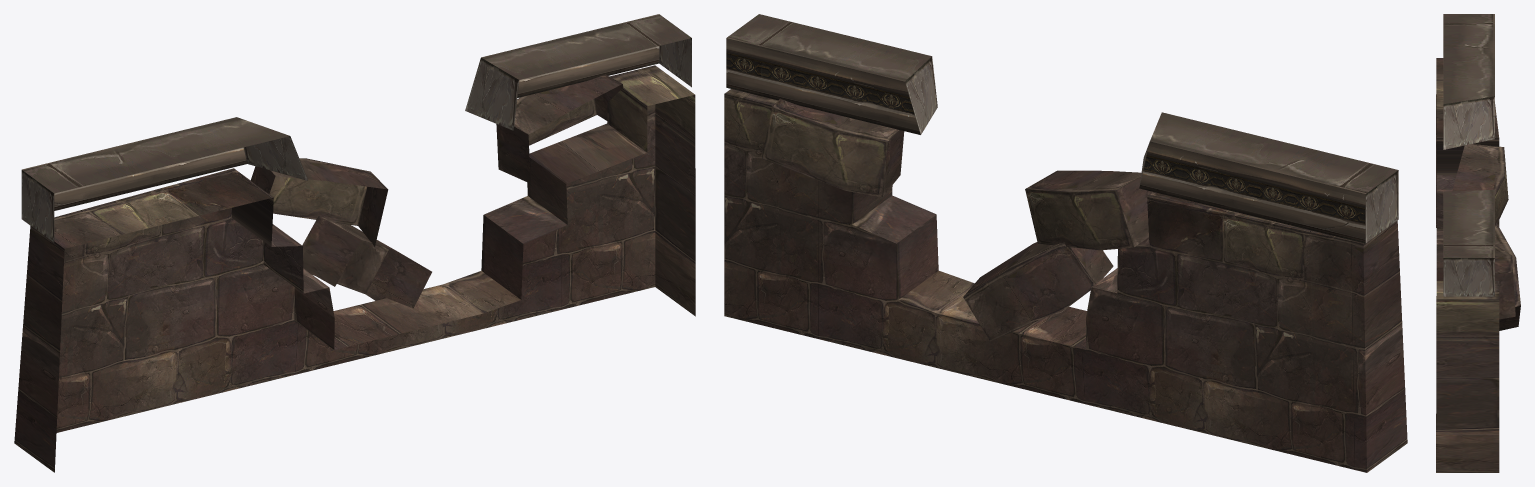
Rendered from wall_break.FBX.
The picture shows the model from 3 angles, left to right: view 1: azimuth 30°, elevation 25°; view 2: azimuth 150°, elevation 25°; view 3: azimuth 270°, elevation 25°; orthographic projection. The views are drawn at different scales.
Parts seen in each view (by area): view 1: wall_break; view 2: wall_break; view 3: wall_break.
Boxes of the visible parts, x1,y1,x2,y2 form: wall_break: (14, 14, 695, 472); wall_break: (724, 14, 1407, 472); wall_break: (1436, 14, 1520, 472).
Bounding box in the file's own units: 6.95 × 2.84 × 1.02.
2 materials, 2 textured.
